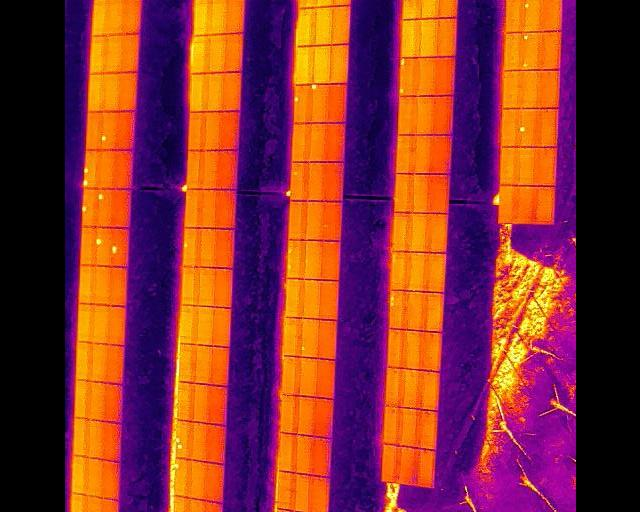Cell: (519, 109, 540, 148), (109, 228, 127, 268), (299, 318, 317, 357), (309, 83, 326, 124), (183, 228, 200, 267), (293, 85, 310, 123), (522, 0, 541, 34), (100, 111, 116, 149), (97, 189, 113, 227), (175, 459, 191, 496), (291, 162, 306, 201), (95, 227, 110, 266), (82, 189, 96, 227), (174, 496, 188, 512), (189, 499, 205, 512)
Cell-Multi: (521, 32, 540, 71), (286, 240, 303, 279), (398, 58, 414, 96), (83, 151, 99, 189), (176, 419, 191, 459), (389, 290, 401, 329)
No-Anomaly: (411, 18, 436, 58), (318, 240, 340, 281), (311, 399, 333, 438), (424, 176, 446, 215), (429, 96, 450, 136), (326, 82, 346, 124), (309, 438, 331, 476), (401, 330, 421, 371), (432, 56, 453, 95), (540, 32, 561, 71), (314, 360, 334, 400), (405, 212, 425, 252), (323, 162, 343, 202), (330, 6, 350, 46), (322, 202, 342, 242), (501, 70, 521, 110), (539, 70, 559, 109), (415, 410, 435, 449), (427, 136, 447, 175), (423, 252, 443, 291), (413, 58, 433, 97), (399, 370, 419, 409), (316, 320, 336, 359), (410, 96, 429, 137), (328, 44, 347, 85), (318, 280, 337, 321), (296, 7, 315, 47), (300, 279, 319, 319), (499, 147, 518, 187), (421, 331, 440, 371), (422, 291, 441, 331), (406, 174, 426, 212), (402, 291, 421, 331), (404, 253, 424, 291), (106, 306, 125, 346), (304, 200, 322, 242), (221, 111, 240, 150), (424, 213, 443, 252), (325, 123, 344, 162), (521, 70, 540, 109), (498, 186, 518, 223), (297, 358, 315, 399), (519, 146, 537, 187), (434, 18, 453, 56), (417, 372, 436, 410), (105, 345, 124, 383), (502, 33, 521, 71), (302, 241, 320, 281), (311, 45, 329, 85), (210, 386, 228, 426), (218, 189, 236, 229), (194, 345, 212, 385), (88, 72, 106, 112), (77, 265, 95, 305), (408, 137, 427, 174), (380, 446, 399, 483), (287, 201, 305, 240), (537, 148, 555, 187), (213, 307, 231, 346), (216, 229, 234, 268), (101, 461, 119, 500), (103, 384, 121, 423), (90, 35, 108, 74), (501, 110, 519, 149), (296, 396, 313, 437), (283, 318, 300, 359), (205, 111, 222, 152), (114, 149, 131, 190), (109, 266, 126, 307), (309, 476, 328, 512), (275, 471, 293, 509), (215, 269, 233, 307), (112, 189, 130, 227), (292, 472, 309, 512), (197, 306, 214, 346), (200, 229, 217, 269), (398, 407, 415, 447), (382, 407, 399, 447), (106, 34, 123, 74), (86, 421, 103, 461), (541, 0, 562, 32), (224, 35, 242, 72), (279, 396, 297, 433), (415, 450, 433, 487), (518, 186, 536, 223), (541, 109, 558, 148), (308, 123, 325, 162), (224, 72, 241, 111), (277, 433, 294, 472), (190, 462, 207, 501), (201, 190, 218, 229), (198, 268, 215, 307), (190, 73, 207, 112), (79, 227, 96, 266), (314, 6, 330, 47), (306, 162, 322, 203), (295, 437, 312, 475), (219, 151, 236, 189), (207, 464, 224, 502), (116, 112, 133, 150), (102, 422, 119, 460), (503, 0, 522, 34), (291, 123, 307, 163), (208, 425, 224, 465), (212, 347, 228, 387), (192, 422, 208, 462), (194, 384, 210, 424), (180, 344, 196, 384), (295, 47, 312, 84), (536, 186, 553, 223), (282, 357, 298, 396), (193, 35, 209, 74), (383, 367, 399, 406), (189, 112, 205, 151), (187, 150, 203, 189), (182, 267, 198, 306), (104, 73, 120, 112), (77, 304, 93, 343), (210, 0, 227, 36), (195, 0, 212, 36), (398, 448, 415, 484), (123, 0, 140, 36), (203, 151, 219, 189), (207, 74, 223, 112), (181, 306, 197, 344), (85, 459, 101, 497), (75, 381, 91, 419), (77, 343, 93, 381), (73, 418, 89, 456), (187, 189, 202, 229), (397, 96, 412, 135), (386, 329, 401, 368), (121, 73, 136, 112), (123, 34, 138, 73), (98, 149, 113, 188), (91, 381, 106, 420), (226, 0, 243, 34), (92, 0, 108, 36), (210, 35, 225, 73), (178, 383, 193, 421), (286, 279, 300, 319), (91, 343, 105, 383), (95, 265, 109, 304), (72, 456, 86, 495), (392, 175, 406, 213), (392, 213, 406, 251), (94, 306, 108, 344), (109, 0, 125, 33), (390, 251, 404, 288), (86, 113, 100, 150), (399, 19, 412, 58), (394, 137, 407, 174), (416, 0, 437, 20), (437, 0, 456, 19), (400, 0, 416, 20), (71, 495, 85, 512), (100, 500, 118, 512), (86, 497, 100, 512), (204, 502, 222, 512), (315, 0, 332, 10), (298, 0, 316, 9)
